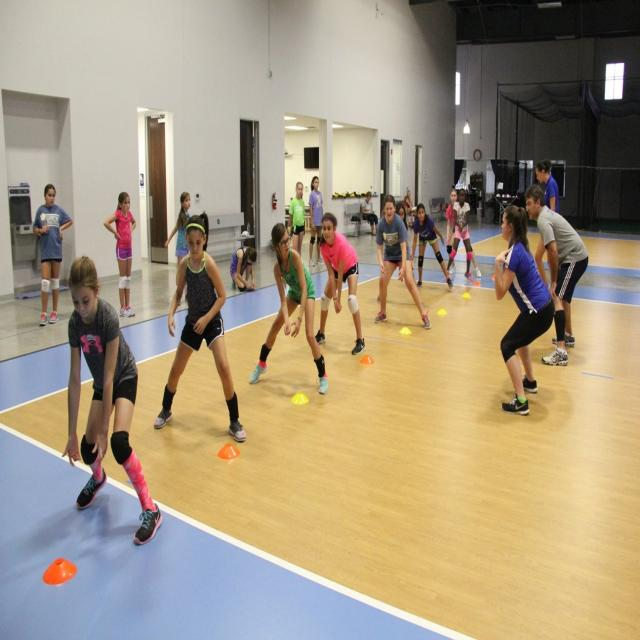body: (60, 253, 163, 546), (152, 209, 248, 443), (248, 221, 329, 395), (493, 202, 556, 417), (523, 182, 589, 368), (372, 194, 430, 330), (312, 210, 366, 356), (30, 182, 74, 330), (376, 202, 424, 306), (103, 191, 137, 319), (409, 202, 454, 293), (534, 158, 560, 291), (445, 186, 482, 278), (164, 190, 192, 306), (445, 188, 474, 282), (288, 180, 306, 267), (307, 175, 324, 267), (229, 245, 258, 292), (360, 190, 379, 237), (405, 190, 418, 227), (436, 200, 450, 212), (402, 194, 412, 210)
